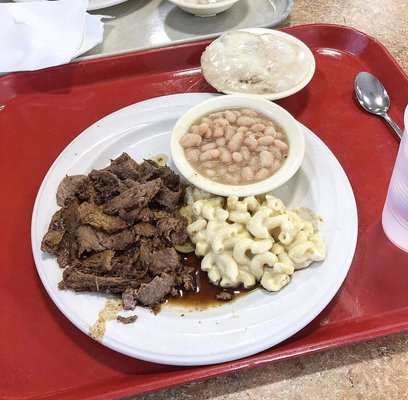salad: (354, 71, 402, 143)
sushi: (170, 94, 306, 197), (169, 1, 238, 18)
